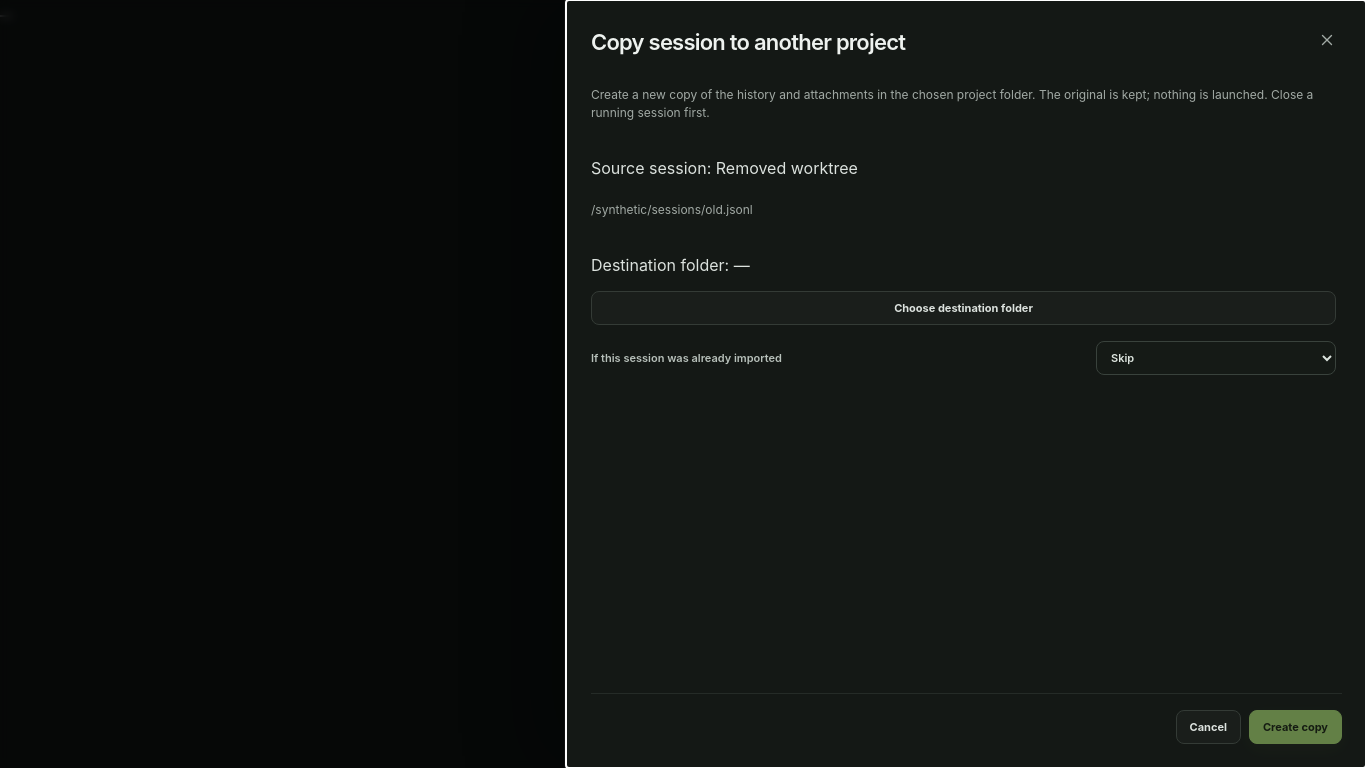
it: Session copy confirmation › never publishes success when the consumer throws
Click the button "Choose destination folder" at [964, 308], box [591,291,1336,325]
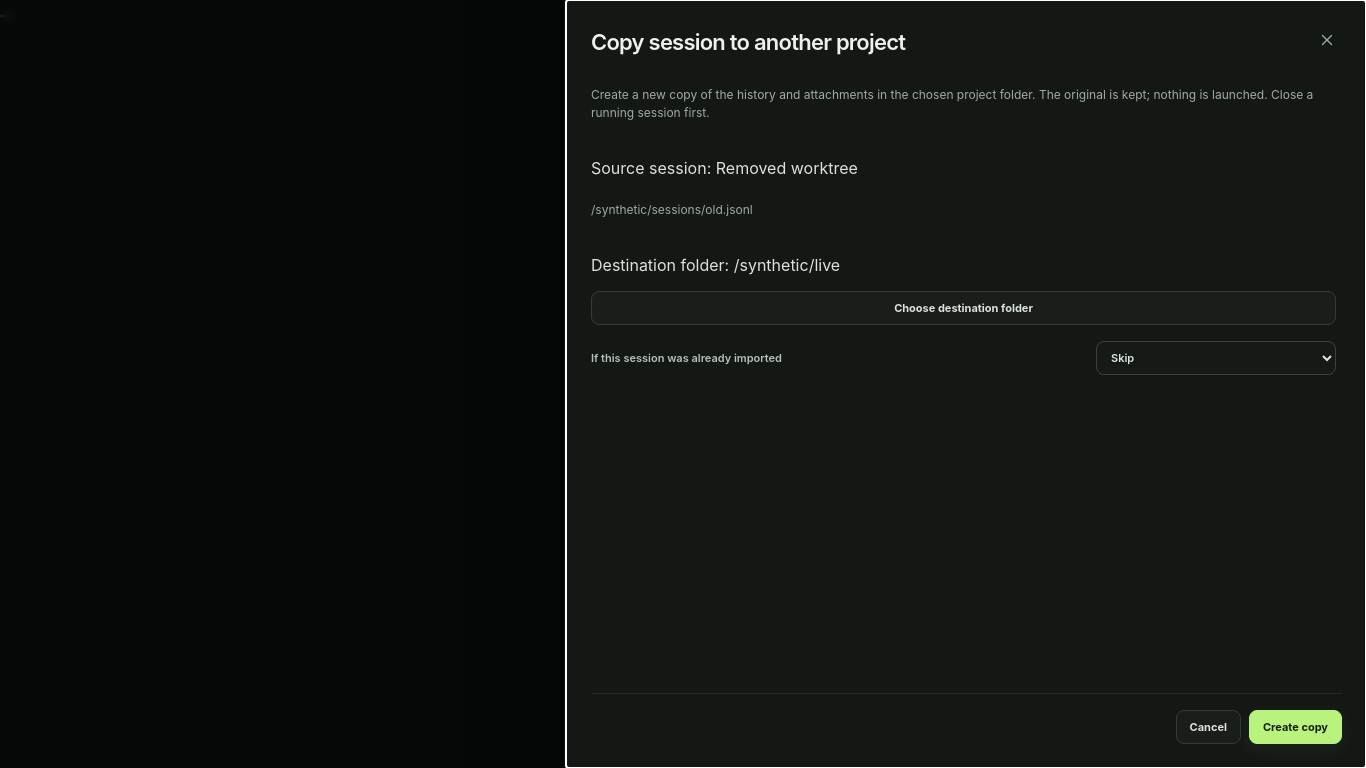
Click the button "Create copy" at [1295, 727], box [1249,710,1342,744]
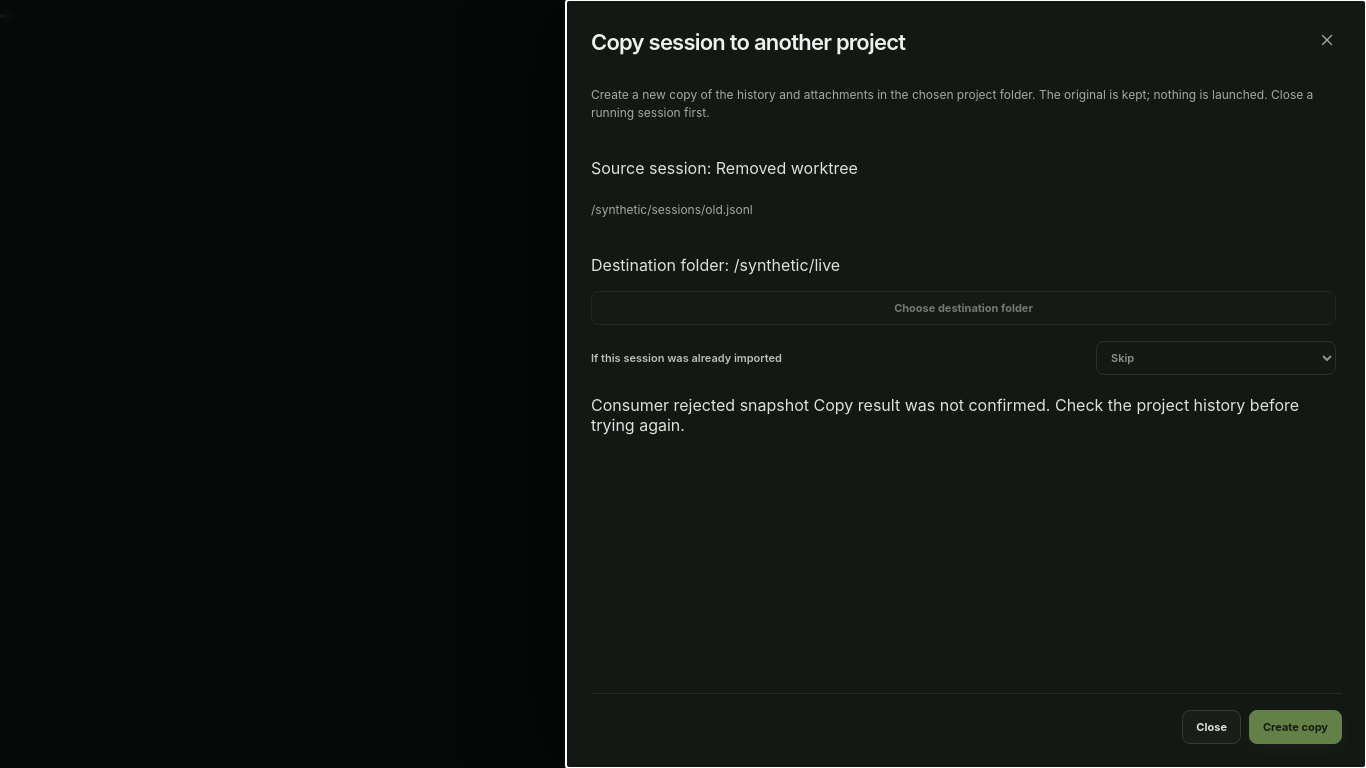
Expected: the message shows "not confirmed", [591,395,1299,435]
Expected: the button "Create copy" is disabled, [1249,710,1342,744]
